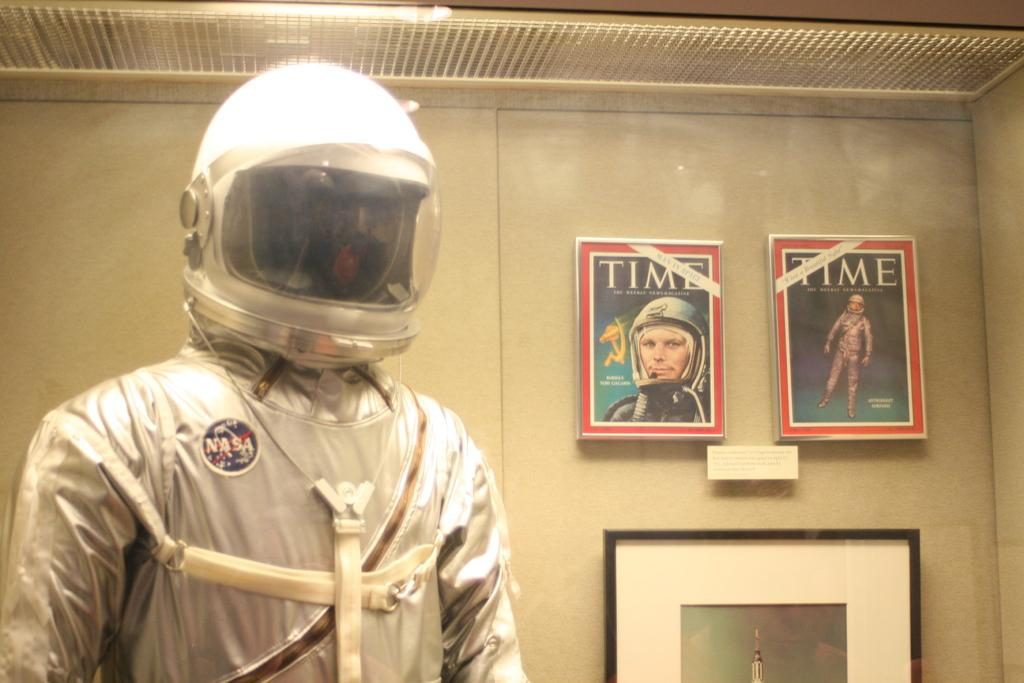helmet: (181, 63, 443, 359)
